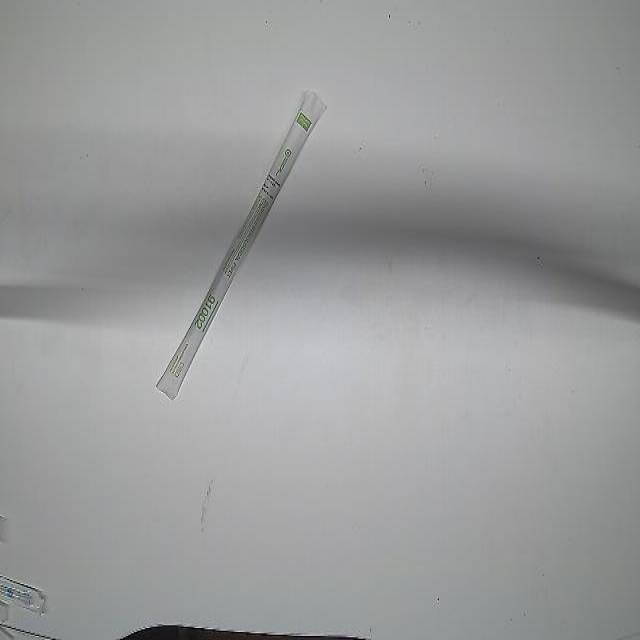Serelogical Pipet 2 mL - Sealed: (155, 88, 327, 404)
